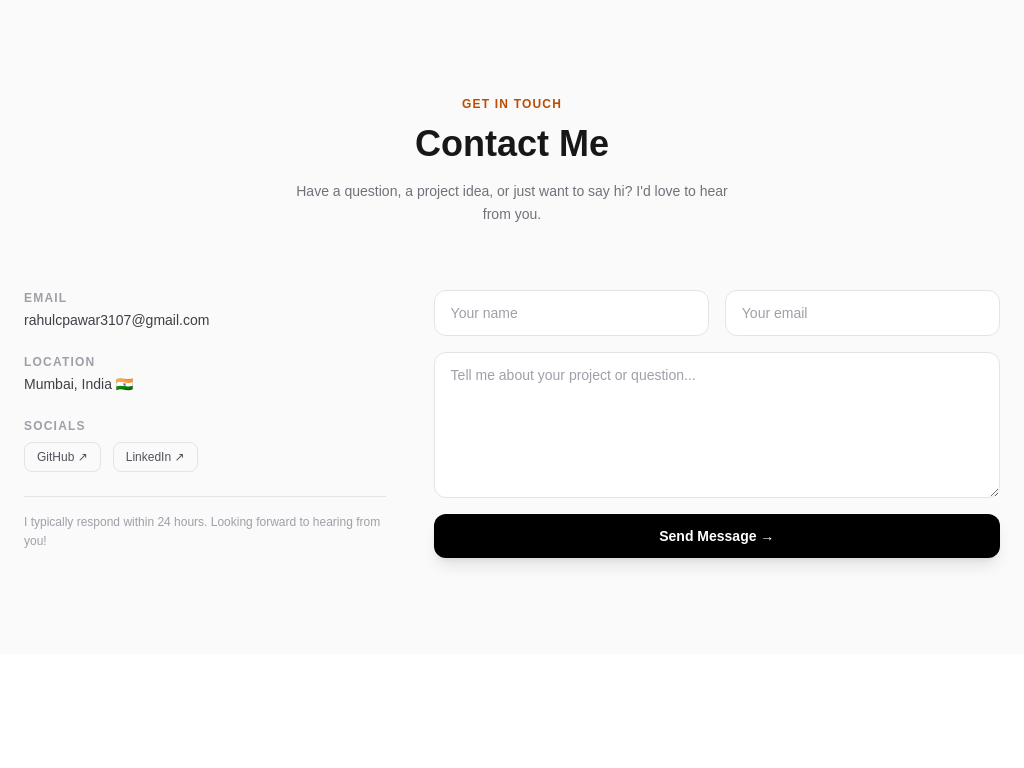
Test: Contact › shows the API error message when the request is rejected
Type "Ada" into the field with placeholder "Your name".
click(571, 312); type("Ada")  # box [434,290,709,336]
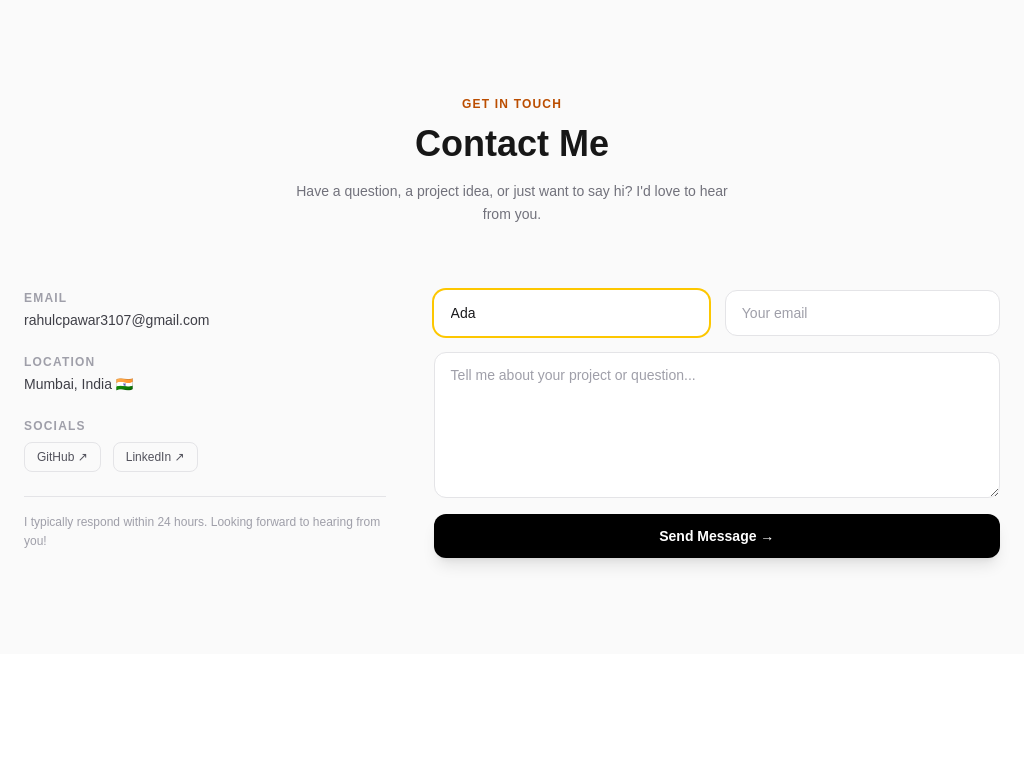
Type "ada@example.com" into the field with placeholder "Your email".
click(862, 312); type("ada@example.com")  # box [725,290,1000,336]
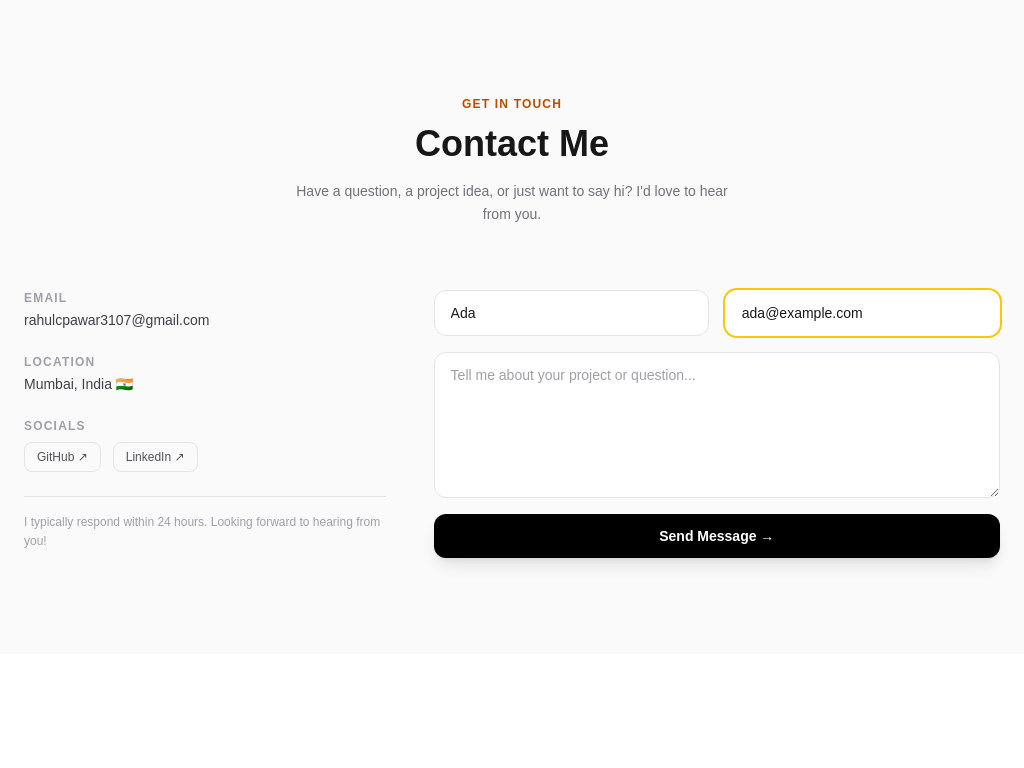
Type "Hello" into the text box with placeholder "Tell me about your project or question...".
click(717, 424); type("Hello")  # box [434,352,1000,498]
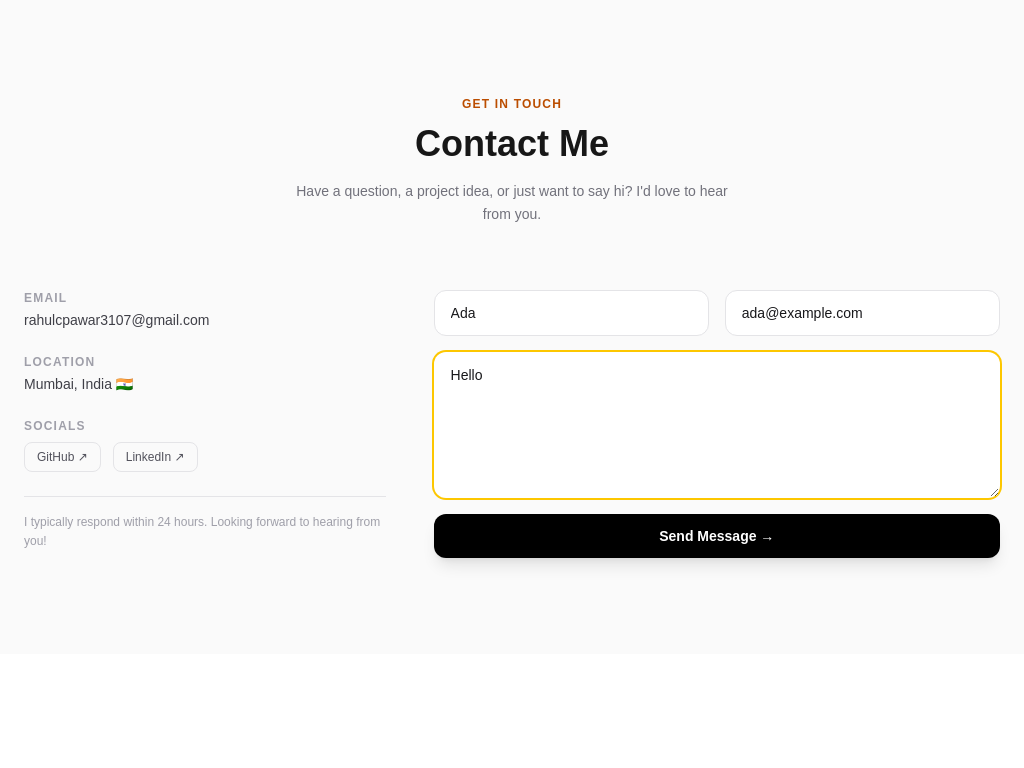
Click the button "Send Message →".
click(717, 536)  # box [434,514,1000,558]
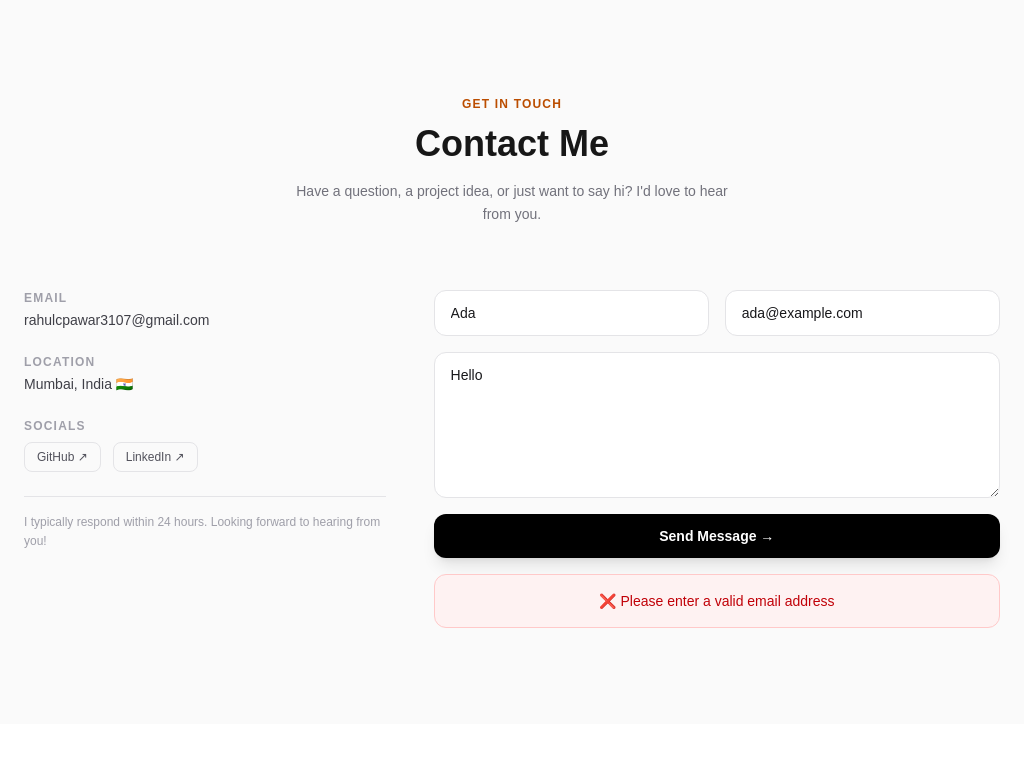
Now the text "❌ Please enter a valid email address" is shown, box [434,574,1000,628]
